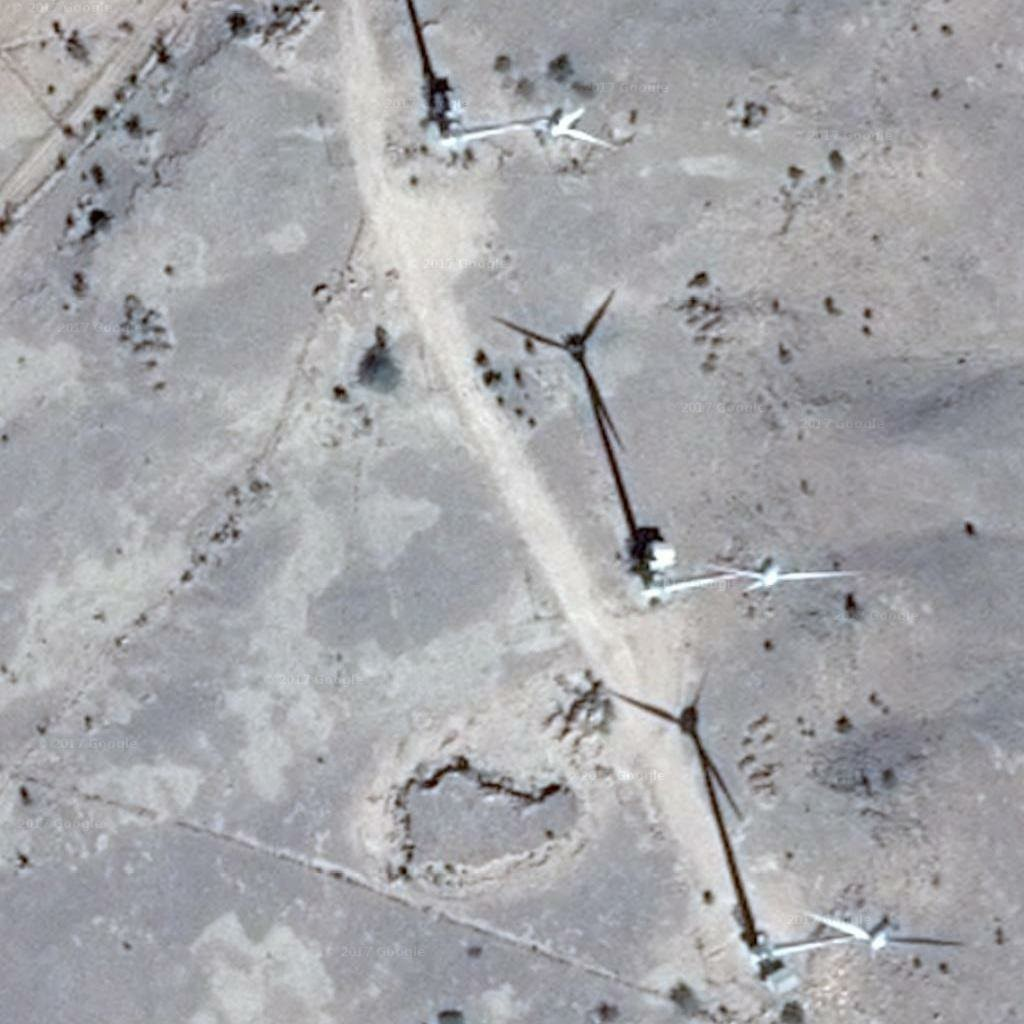Windmill: (487, 295, 672, 583)
